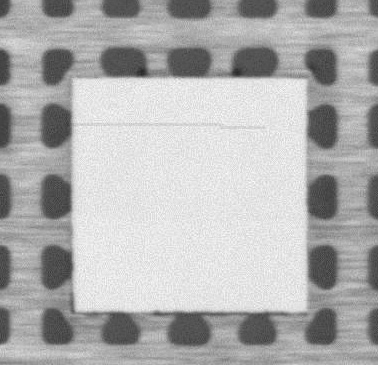DIE_CRACK: (74, 117, 266, 129)
